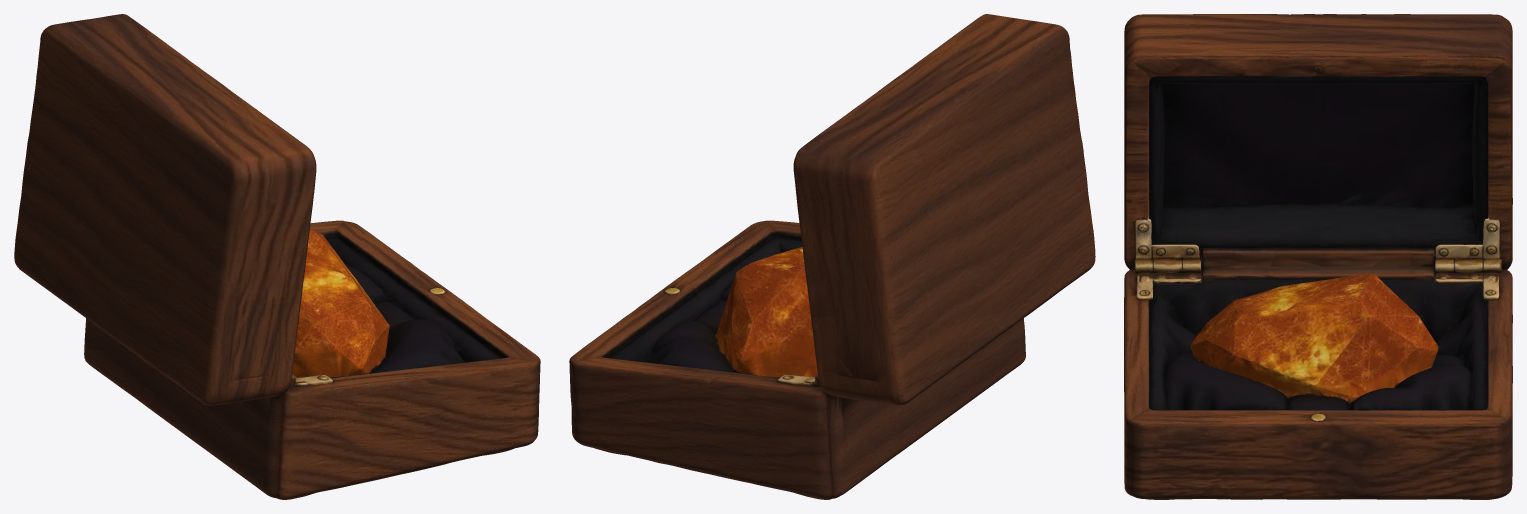
The model's file is core-crystal-case.glb.
3 renders of one model, left to right at view 1: azimuth 30°, elevation 25°; view 2: azimuth 150°, elevation 25°; view 3: azimuth 270°, elevation 25°, orthographic. The views are drawn at different scales.
Parts seen in each view (by area): view 1: tripo_node_8e60444f-43a6-4cde-aecf-6a47e1420eb3; view 2: tripo_node_8e60444f-43a6-4cde-aecf-6a47e1420eb3; view 3: tripo_node_8e60444f-43a6-4cde-aecf-6a47e1420eb3.
Part boxes in pixels (x1,y1,x2,y2): tripo_node_8e60444f-43a6-4cde-aecf-6a47e1420eb3: [14, 14, 540, 499]; tripo_node_8e60444f-43a6-4cde-aecf-6a47e1420eb3: [569, 14, 1095, 499]; tripo_node_8e60444f-43a6-4cde-aecf-6a47e1420eb3: [1124, 14, 1512, 499].
Size of the model in its own units: 0.9861 by 0.9998 by 0.9994.
1 material, 1 textured.
